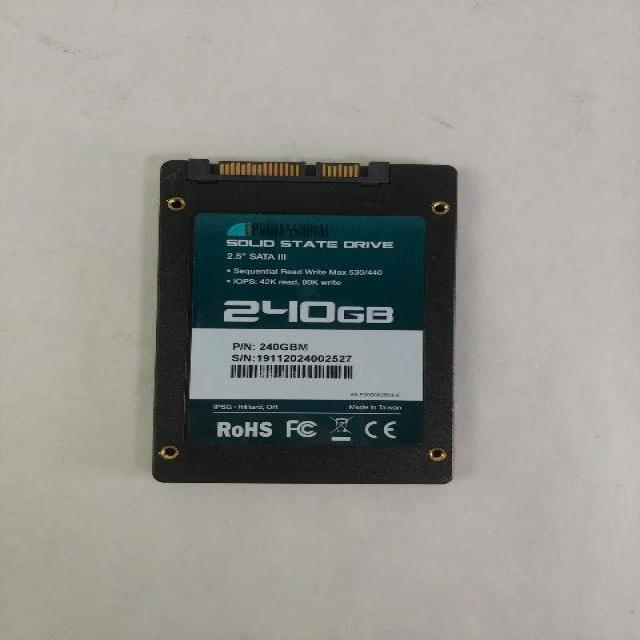DISK: (148, 156, 463, 488)
